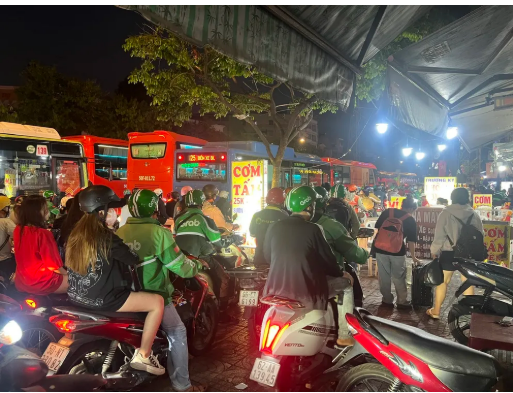Bien-so: (248, 358, 283, 388), (41, 340, 69, 374), (237, 289, 258, 308)
